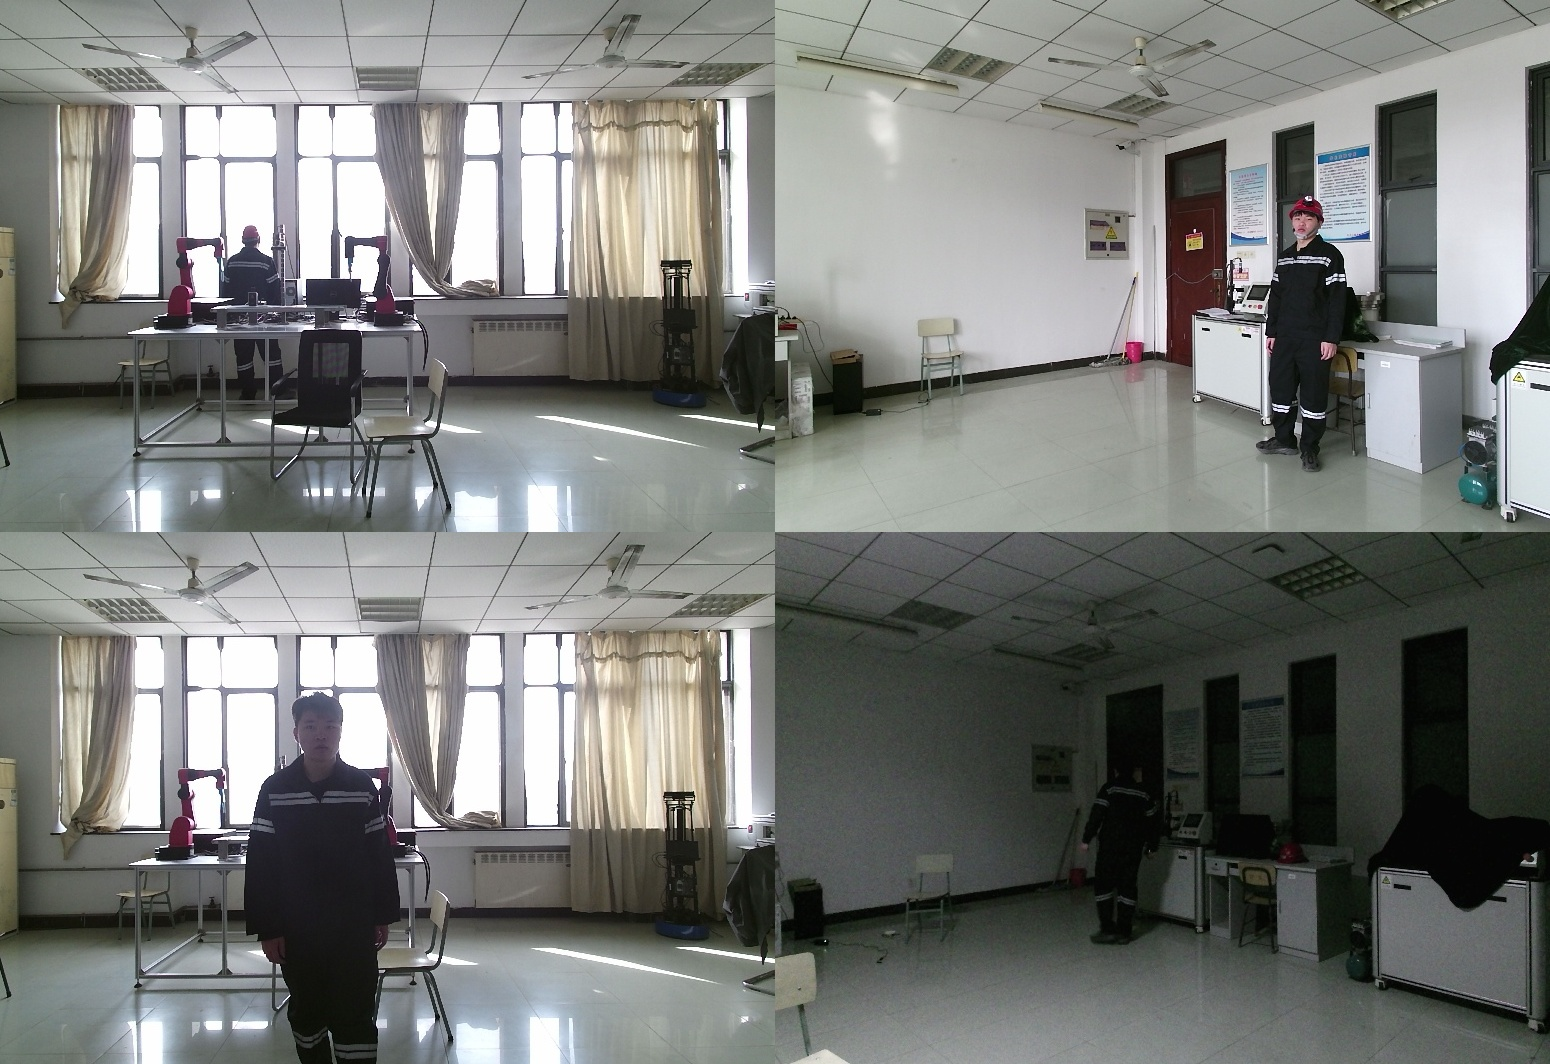person: (251, 697, 404, 1064), (1264, 195, 1356, 470), (1081, 756, 1171, 953), (219, 226, 293, 409)
